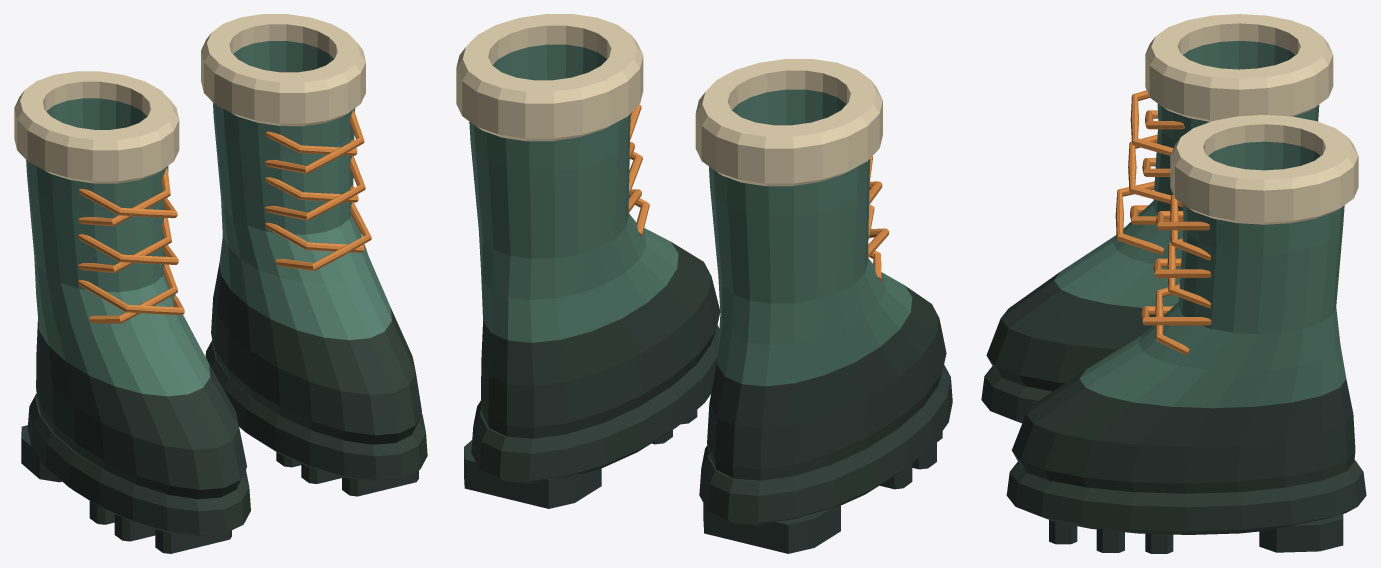
3 renders of one model, left to right at view 1: azimuth 30°, elevation 25°; view 2: azimuth 150°, elevation 25°; view 3: azimuth 270°, elevation 25°, orthographic. The views are drawn at different scales.
Visible parts, largest first — view 1: Right_HollowShell, Left_HollowShell, Left_FoldedCuff, Right_FoldedCuff, Left_LayeredSole, Right_LayeredSole, Right_FixedLace1B, Left_ForefootTread1, Right_FixedLace2B, Right_FixedLace3B, Left_FixedLace1B, Left_FixedLace2B (+10 smaller); view 2: Right_HollowShell, Left_HollowShell, Left_FoldedCuff, Right_FoldedCuff, Left_LayeredSole, Right_LayeredSole, Left_HeelPad, Right_HeelPad; view 3: Right_HollowShell, Left_HollowShell, Right_FoldedCuff, Left_FoldedCuff, Right_LayeredSole, Right_HeelPad, Left_LayeredSole, Left_FixedLace1B, Left_FixedLace2B, Right_FixedLace1B, Left_FixedLace3B, Right_FixedLace3B (+7 smaller).
Boxes of the visible parts, x1,y1,x2,y2 form: Right_HollowShell: (211,41,421,444); Left_HollowShell: (26,98,246,499); Left_FoldedCuff: (14,71,179,183); Right_FoldedCuff: (201,14,365,126); Left_LayeredSole: (27,393,250,536); Right_LayeredSole: (205,340,427,481); Right_FixedLace1B: (276,202,371,270); Left_ForefootTread1: (155,529,231,553); Right_FixedLace2B: (265,156,365,220); Right_FixedLace3B: (265,110,364,173); Left_FixedLace1B: (78,280,184,315); Left_FixedLace2B: (78,234,178,264); Right_HollowShell: (469,44,720,438); Left_HollowShell: (707,89,946,480); Left_FoldedCuff: (695,59,882,186); Right_FoldedCuff: (456,14,643,141); Left_LayeredSole: (699,364,952,525); Right_LayeredSole: (471,325,719,483); Left_HeelPad: (703,503,840,553); Right_HeelPad: (464,440,601,508); Right_HollowShell: (1011,141,1355,493); Left_HollowShell: (986,40,1319,391); Right_FoldedCuff: (1170,115,1358,224); Left_FoldedCuff: (1145,14,1333,121); Right_LayeredSole: (1006,460,1366,534); Right_HeelPad: (1259,513,1343,552); Left_LayeredSole: (981,366,1052,423); Left_FixedLace1B: (1115,181,1164,254); Left_FixedLace2B: (1128,134,1182,206); Right_FixedLace1B: (1141,306,1211,325); Left_FixedLace3B: (1130,90,1173,155); Right_FixedLace3B: (1156,211,1209,230).
Size of the model in its own units: 0.4 by 0.414 by 0.381.
